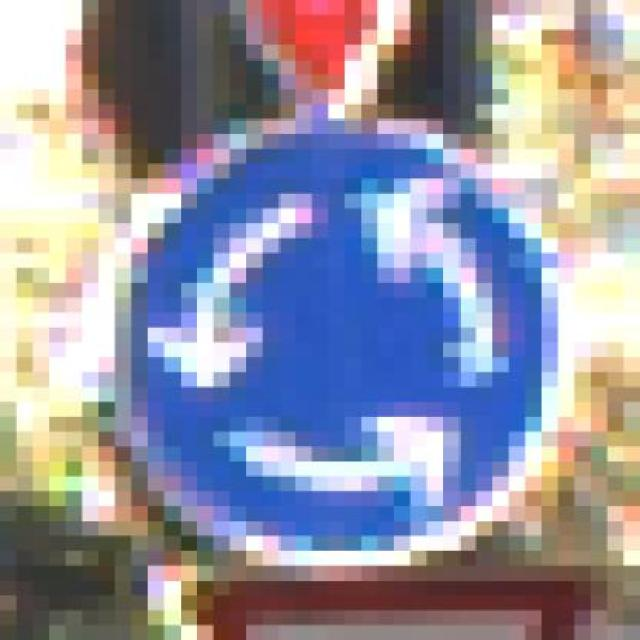Round-About: (66, 119, 592, 596)
